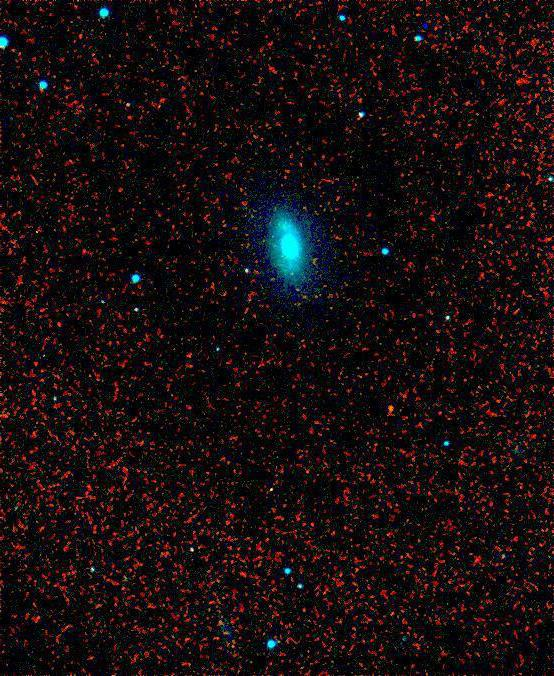star: (377, 394, 407, 424)
